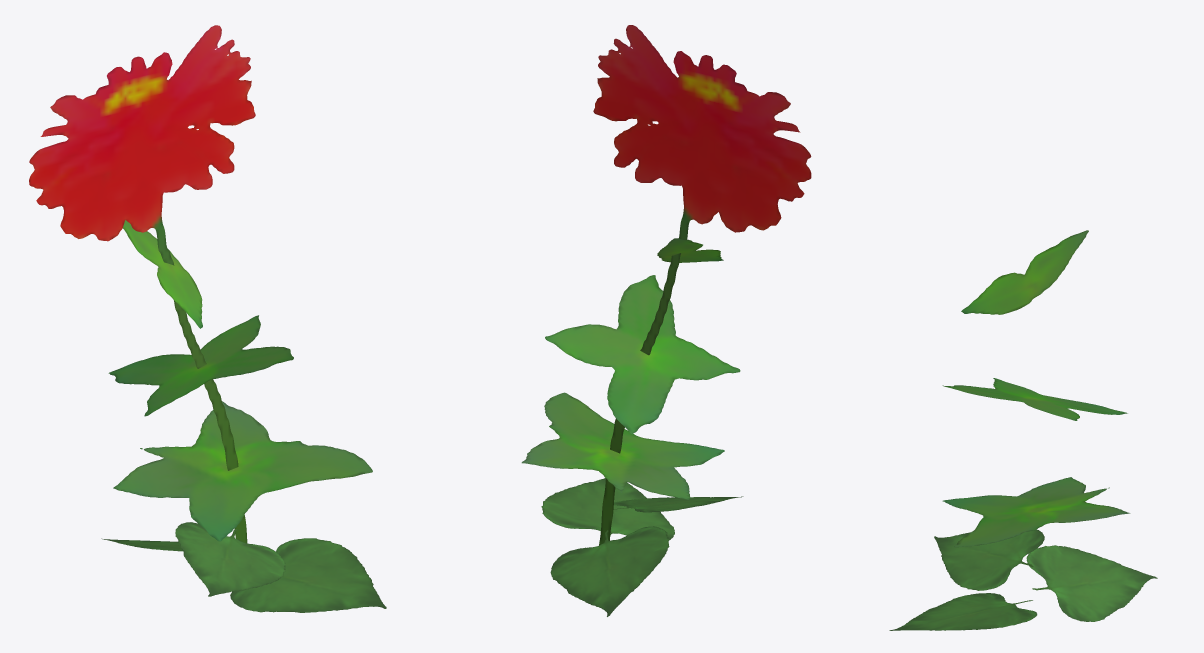
File: Simple Flower B2.fbx
3 views of the same model, side by side, from view 1: azimuth 30°, elevation 25°; view 2: azimuth 150°, elevation 25°; view 3: azimuth 270°, elevation 25° (orthographic). The views are drawn at different scales.
Parts seen in each view (by area): view 1: Simple Flower Med.001; view 2: Simple Flower Med.001; view 3: Simple Flower Med.001.
Boxes of the visible parts, x1,y1,x2,y2 form: Simple Flower Med.001: (29, 25, 386, 612); Simple Flower Med.001: (521, 25, 811, 616); Simple Flower Med.001: (889, 230, 1157, 630).
Size of the model in its own units: 17.95 by 29.02 by 17.26.
